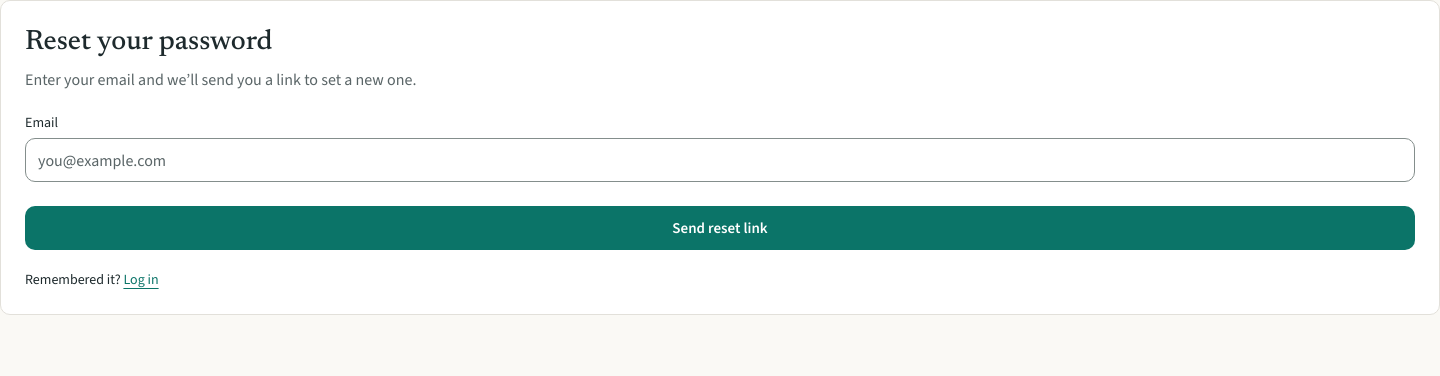
Test case: ForgotPasswordForm › failure shows the error and keeps the form
Type "ann@example.com" into the field labelled "Email" at [720, 160], box [25, 138, 1415, 182]
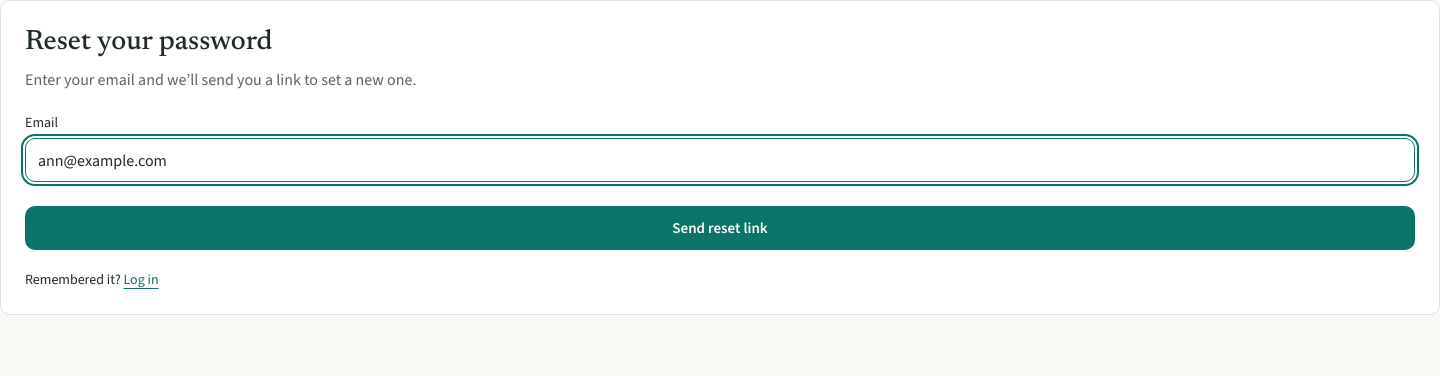
Click the button "Send reset link" at [720, 228], box [25, 206, 1415, 250]
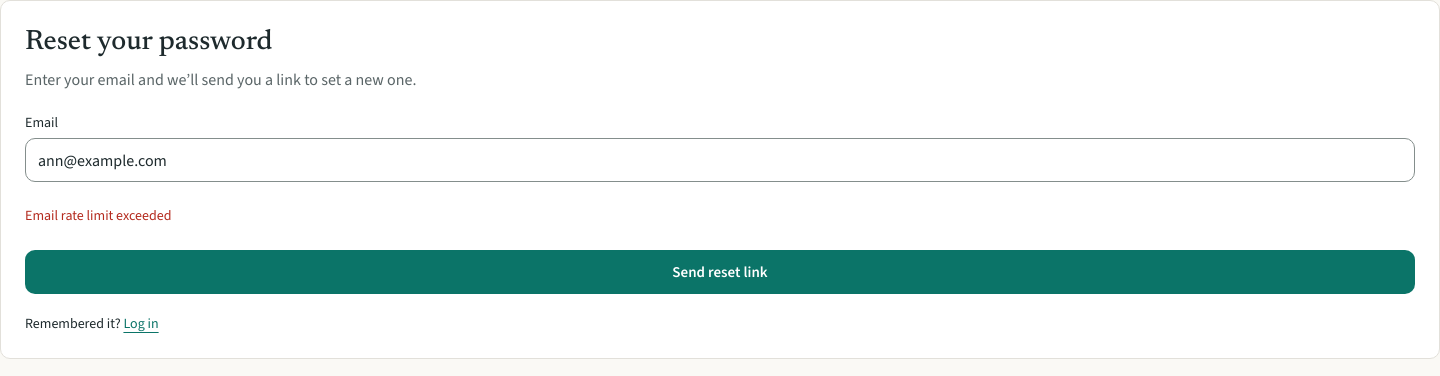
Expected: the text "Email rate limit exceeded" is shown, [25, 206, 171, 225]
